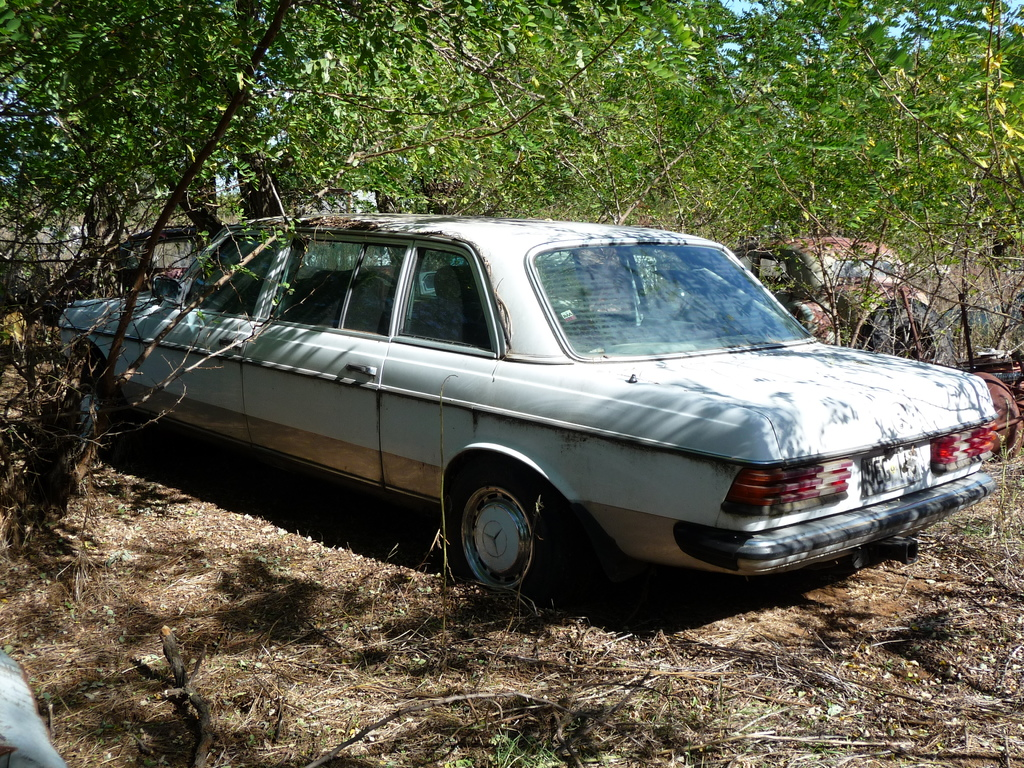Car: (59, 212, 997, 603)
